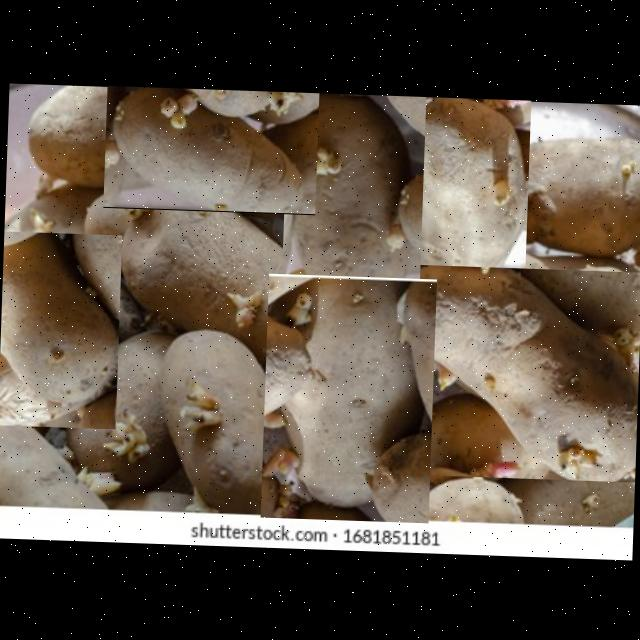Sprouted potato: (361, 262, 640, 481), (104, 168, 338, 365), (260, 272, 436, 522), (141, 312, 304, 517), (280, 90, 425, 292), (102, 84, 318, 214), (0, 230, 121, 428), (406, 95, 530, 273)
